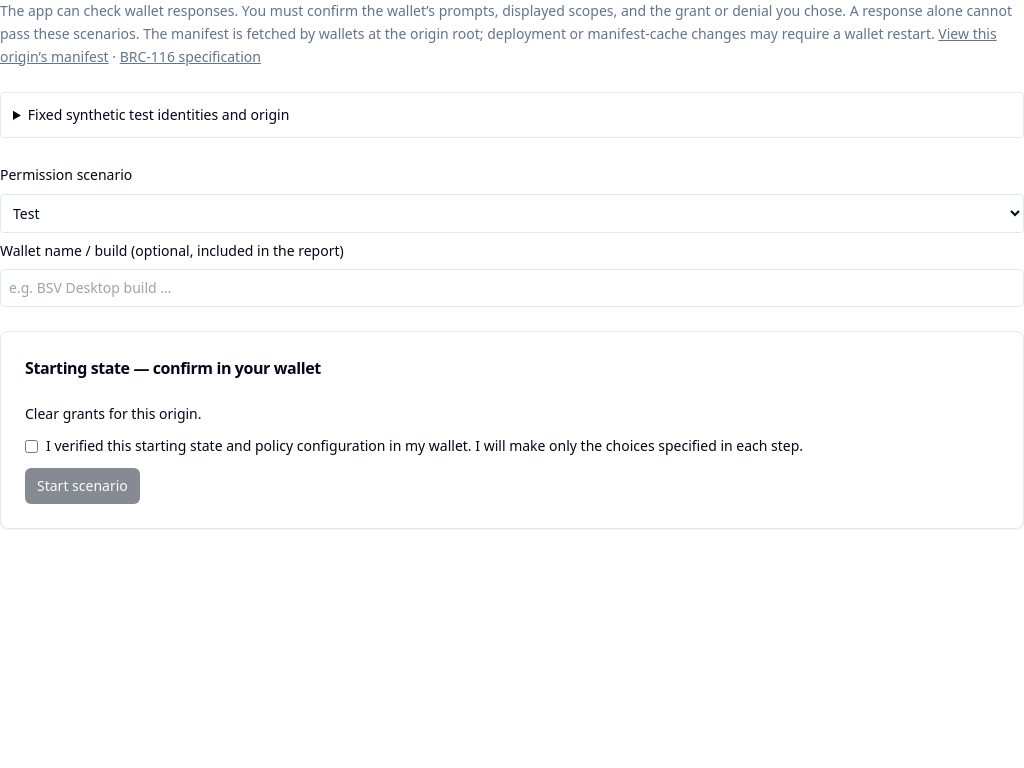
Test: guided permission UI › fails the scenario when the wallet UI contradicts a matching API response
Expected: the button "Start scenario" is disabled, [25,468,140,504]
Click the checkbox: click(32, 447) [25,440,38,453]
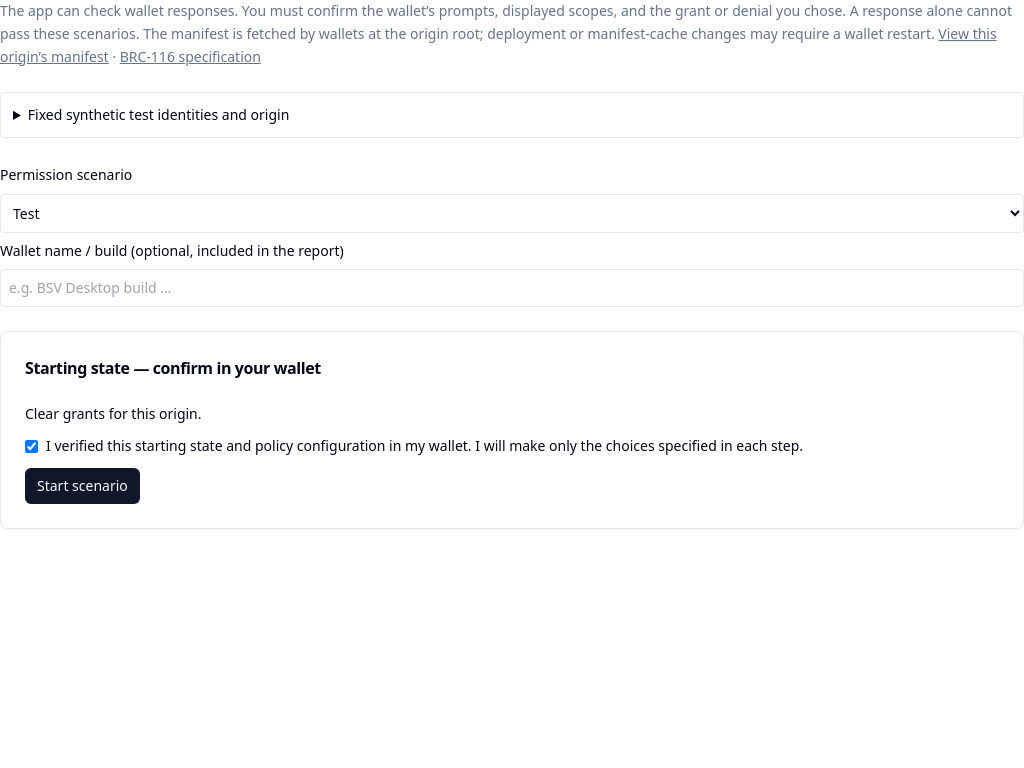
Click the button "Start scenario": click(82, 486) [25,468,140,504]
(page scrolled)
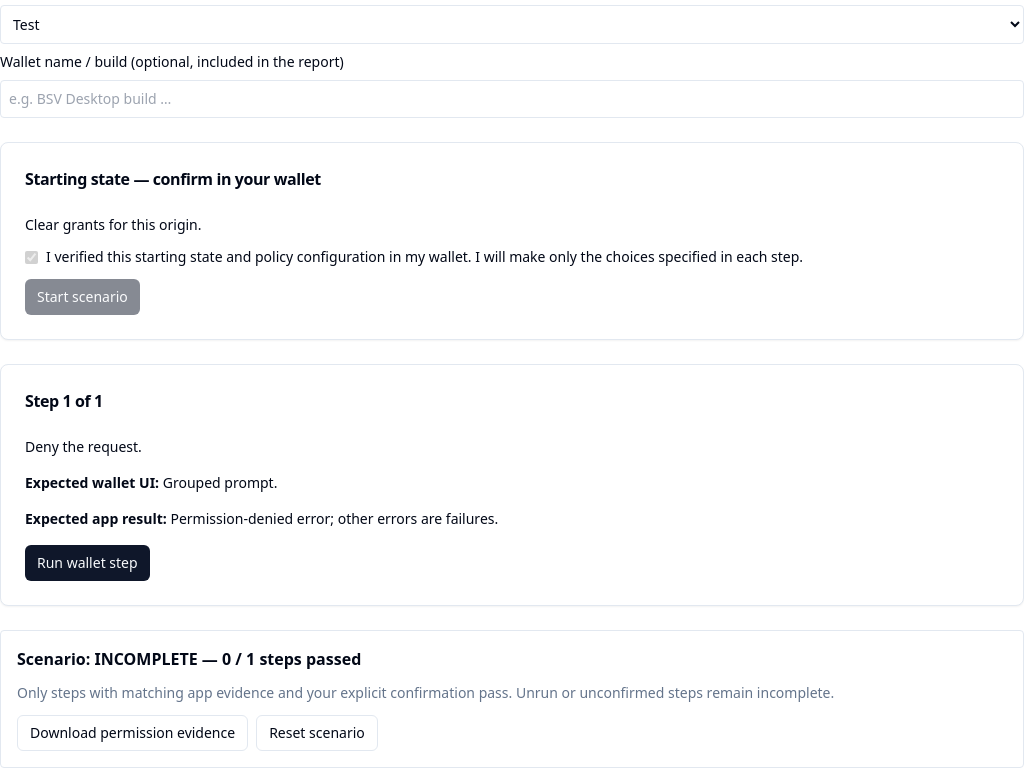
Click the button "Run wallet step": click(87, 563) [25,545,150,581]
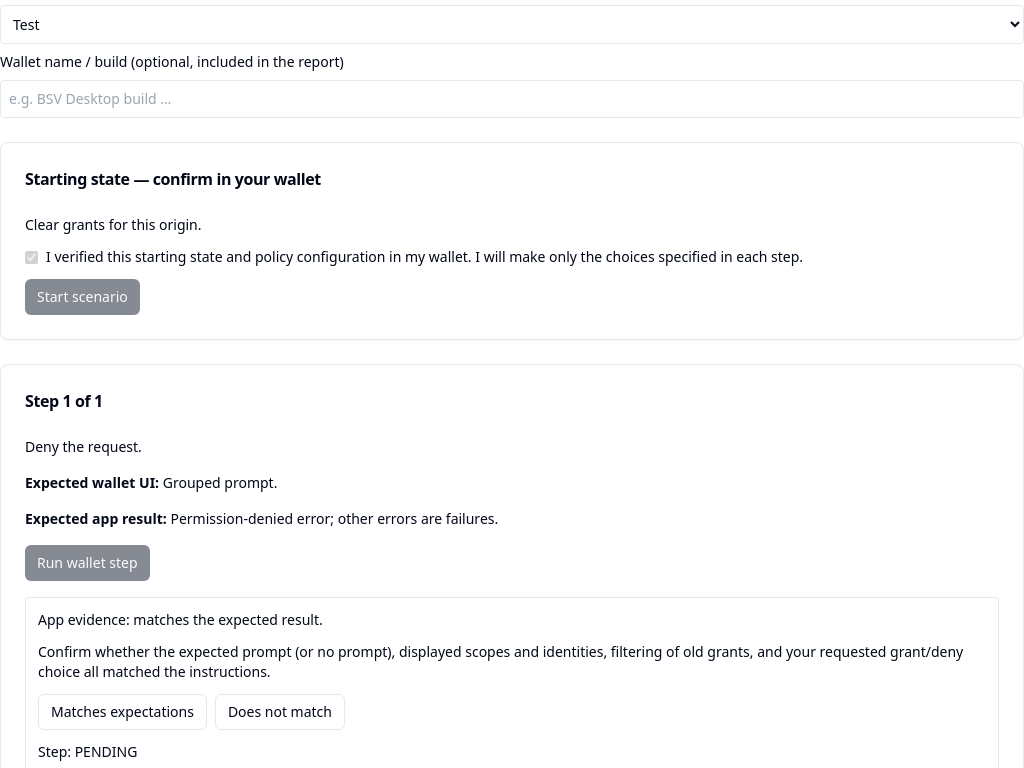
Result: the text "Step: PENDING" is shown at [38,742,137,761]
Click the button "Does not match": click(280, 712) [215,694,345,730]
(page scrolled)
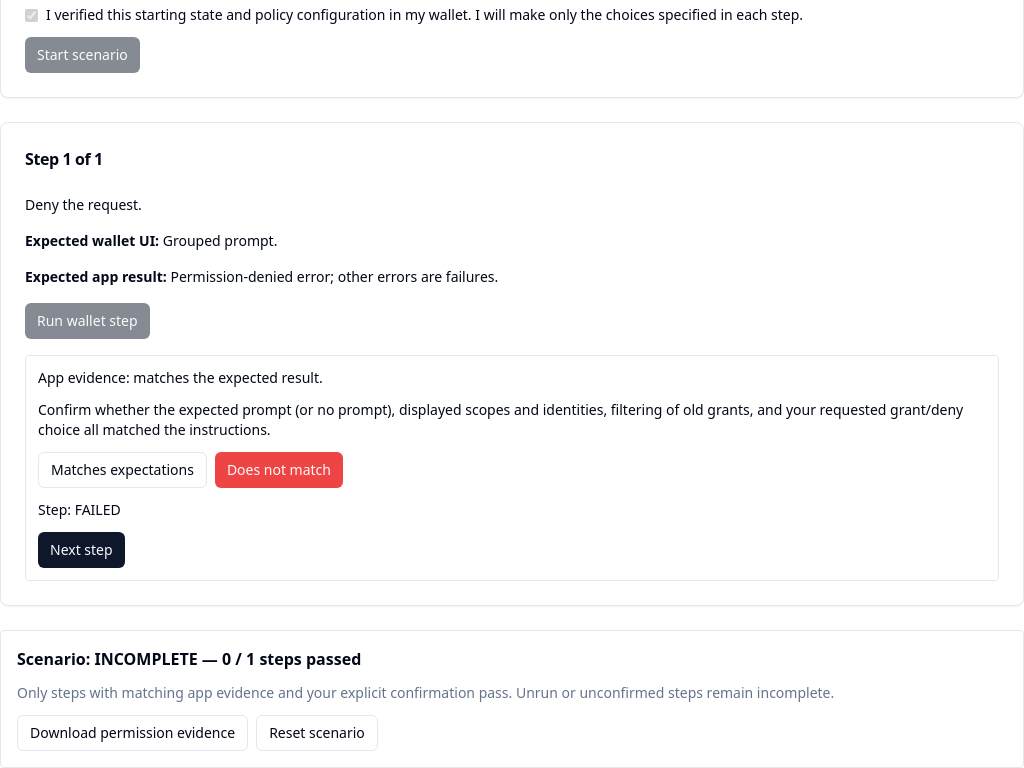
Click the button "Next step": click(81, 550) [38,532,125,568]
(page scrolled)
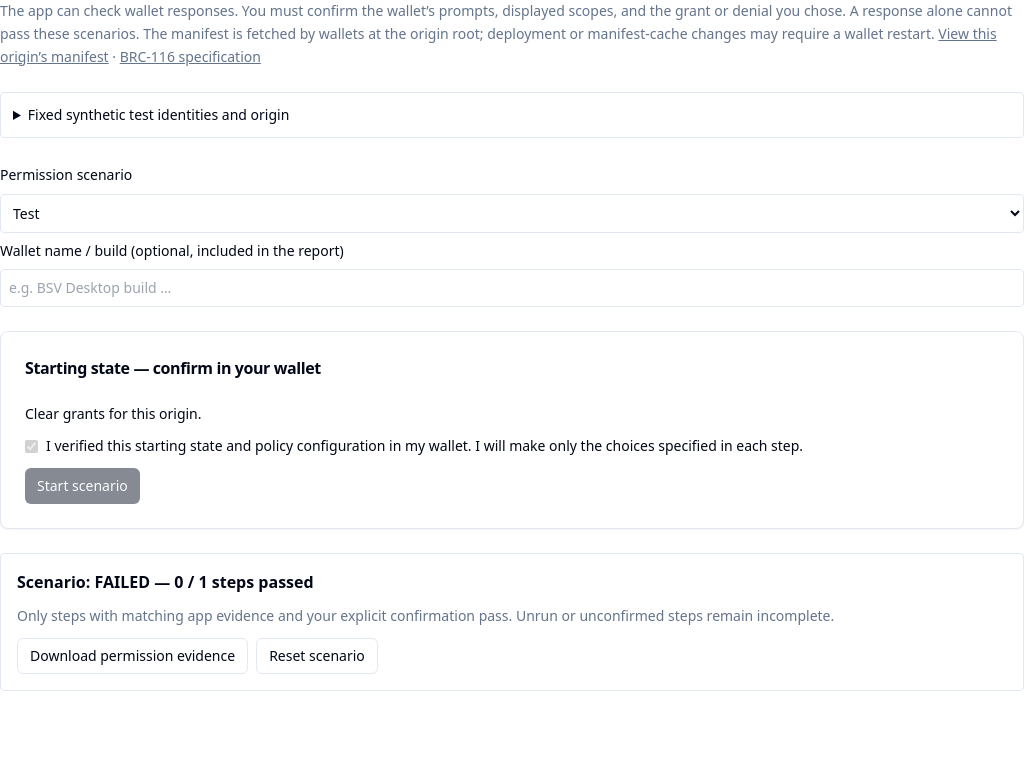
Result: the text "Scenario: FAILED — 0 / 1 steps passed" is shown at [17,571,314,593]
